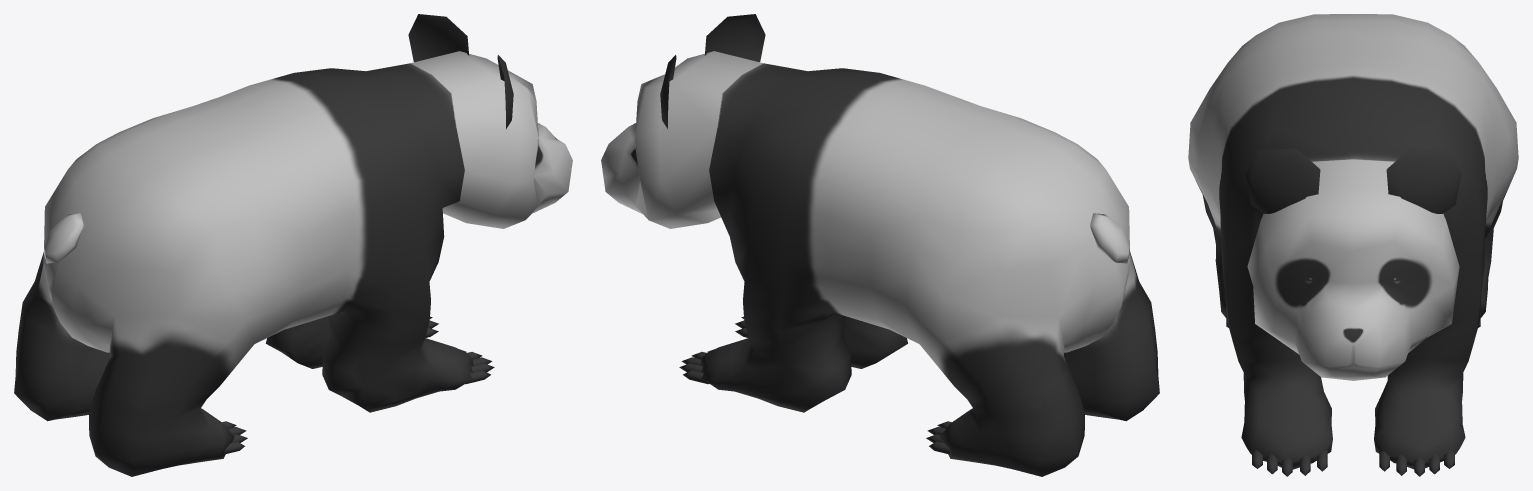
File: panda_model.fbx
The picture shows the model from 3 angles, left to right: view 1: azimuth 30°, elevation 25°; view 2: azimuth 150°, elevation 25°; view 3: azimuth 270°, elevation 25°; orthographic projection. The views are drawn at different scales.
Visible parts, largest first — view 1: pCube12, pCube6, pCube10, pCylinder6; view 2: pCube12, pCube9, pCube10, pCylinder6; view 3: pCube12, pCube9, pCube6, pCylinder6.
Boxes of the visible parts, x1=… form: pCube12: x1=14, y1=51, x2=572, y2=476; pCube6: x1=408, y1=14, x2=469, y2=62; pCube10: x1=43, y1=213, x2=83, y2=263; pCylinder6: x1=425, y1=316, x2=494, y2=384; pCube12: x1=601, y1=51, x2=1159, y2=476; pCube9: x1=704, y1=14, x2=765, y2=62; pCube10: x1=1090, y1=213, x2=1130, y2=263; pCylinder6: x1=679, y1=316, x2=748, y2=384; pCube12: x1=1188, y1=14, x2=1518, y2=469; pCube9: x1=1245, y1=148, x2=1320, y2=213; pCube6: x1=1386, y1=148, x2=1461, y2=213; pCylinder6: x1=1252, y1=450, x2=1454, y2=476.
Bounding box in the file's own units: 36.91 × 21.18 × 18.48.
